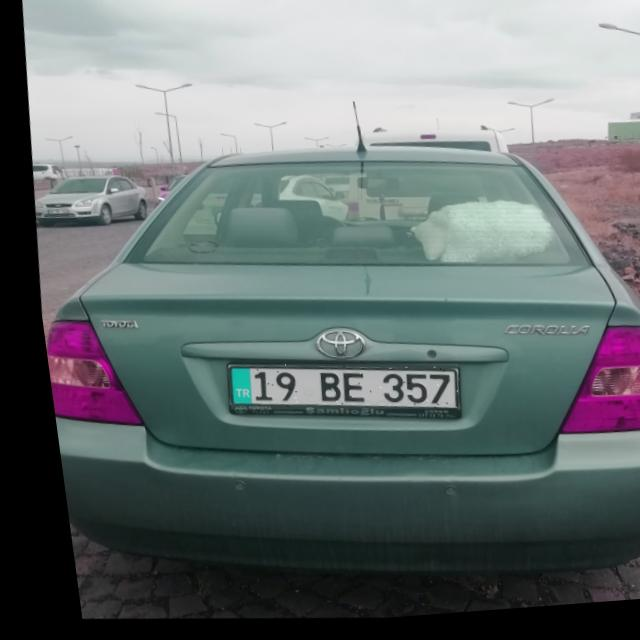license_plate: (215, 353, 451, 428)
